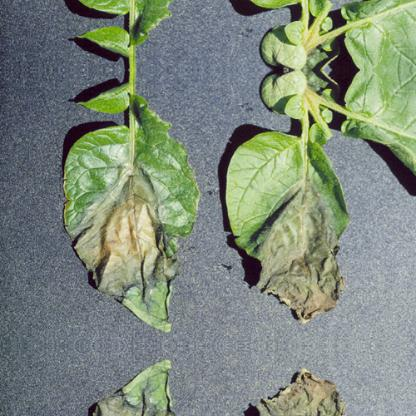Late-Blight: (222, 113, 382, 325), (54, 115, 206, 335), (54, 355, 205, 416), (222, 365, 382, 416)
